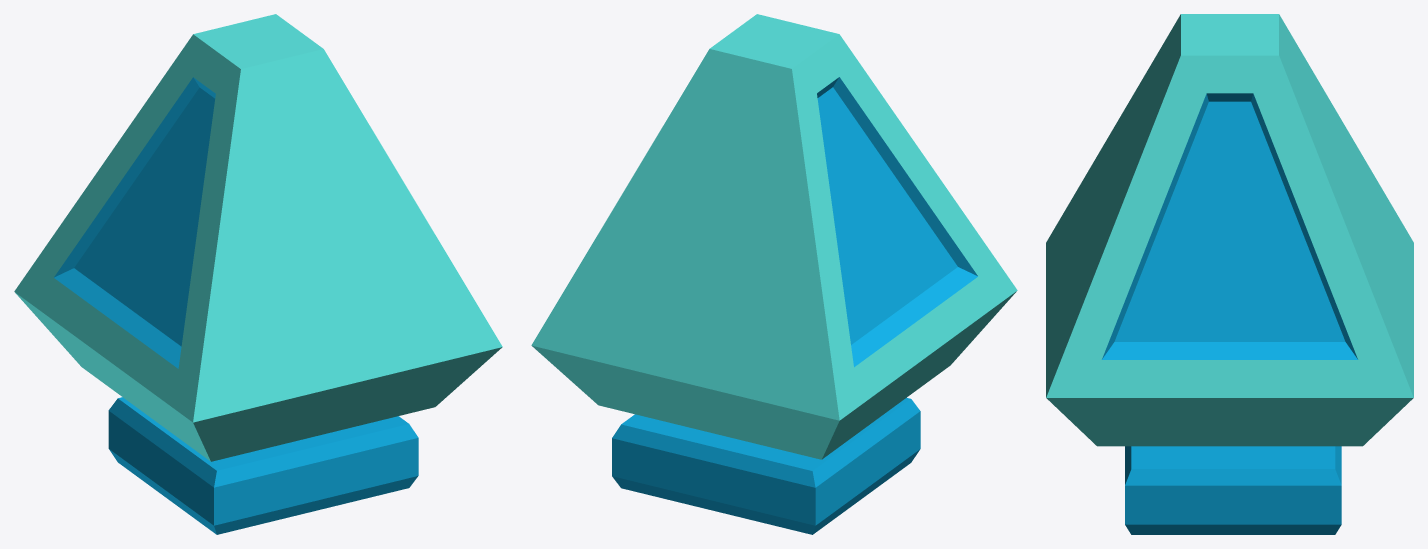
Rendered from AlienRuinsBP.gltf.
3 renders of one model, left to right at view 1: azimuth 30°, elevation 25°; view 2: azimuth 150°, elevation 25°; view 3: azimuth 270°, elevation 25°, orthographic. The views are drawn at different scales.
Parts seen in each view (by area): view 1: AlienRuinBP, AlienRuinCube; view 2: AlienRuinBP, AlienRuinCube; view 3: AlienRuinBP, AlienRuinCube.
Part boxes in pixels (x1,y1,x2,y2): AlienRuinBP: (14,14,502,461); AlienRuinCube: (108,397,418,534); AlienRuinBP: (531,14,1017,459); AlienRuinCube: (612,397,920,534); AlienRuinBP: (1046,14,1413,446); AlienRuinCube: (1125,446,1341,534).
Bounding box in the file's own units: 0.7089 × 0.9544 × 0.7089.
